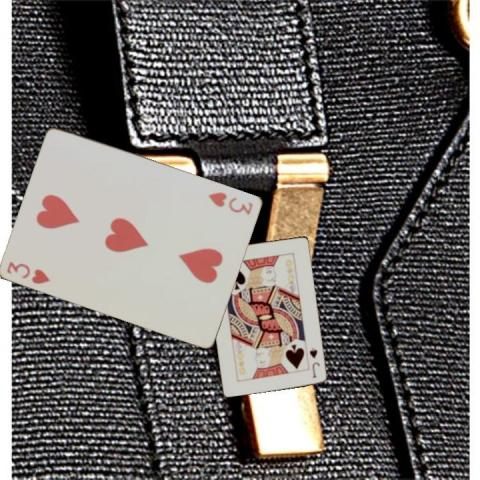3h: (205, 189, 255, 216), (4, 258, 52, 285)
Js: (306, 345, 320, 379)
